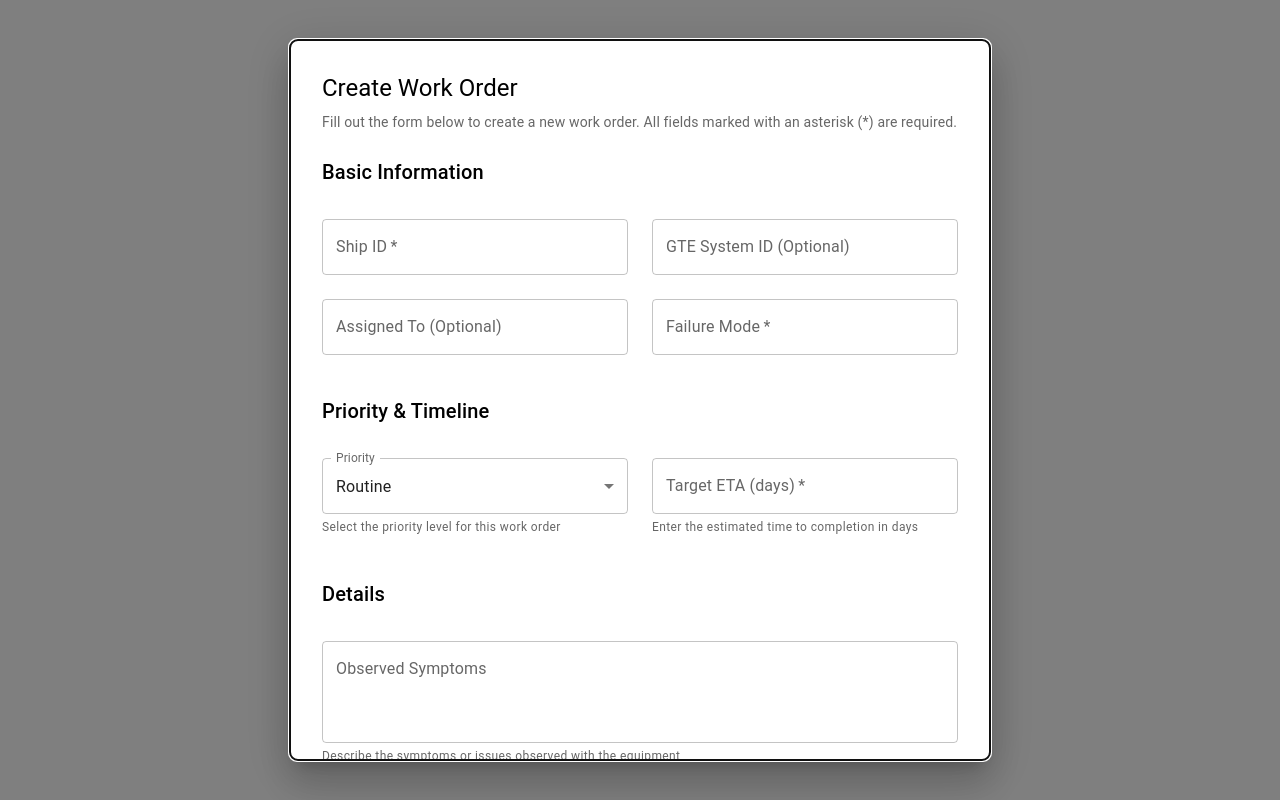
WorkOrderModal › validates ETA field for negative numbers
Type "-5" into the number field at [805, 486], box [652,458,958,514]
(page scrolled)
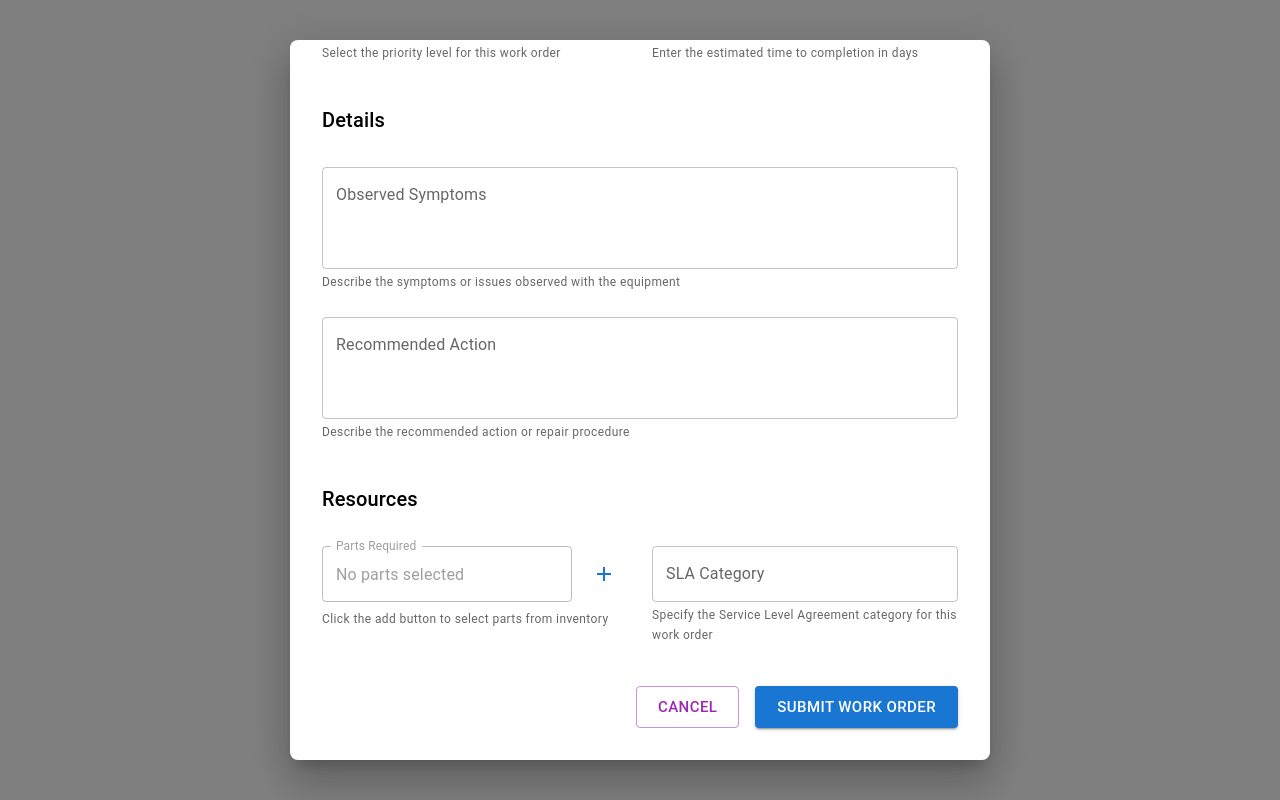
Click the button "Submit Work Order" at [857, 707], box [755,686,958,728]
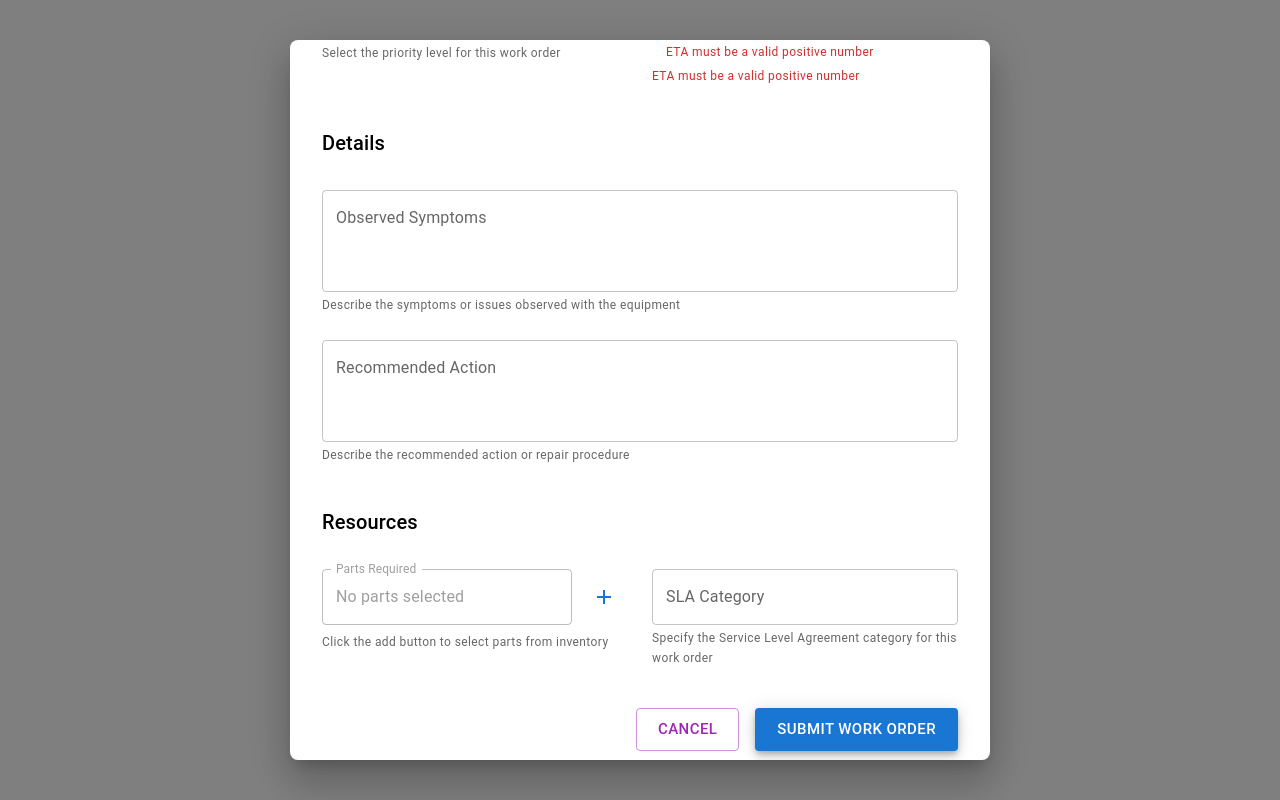
Result: the 1st text "ETA must be a valid positive number" is shown at [666,45,874,59]
